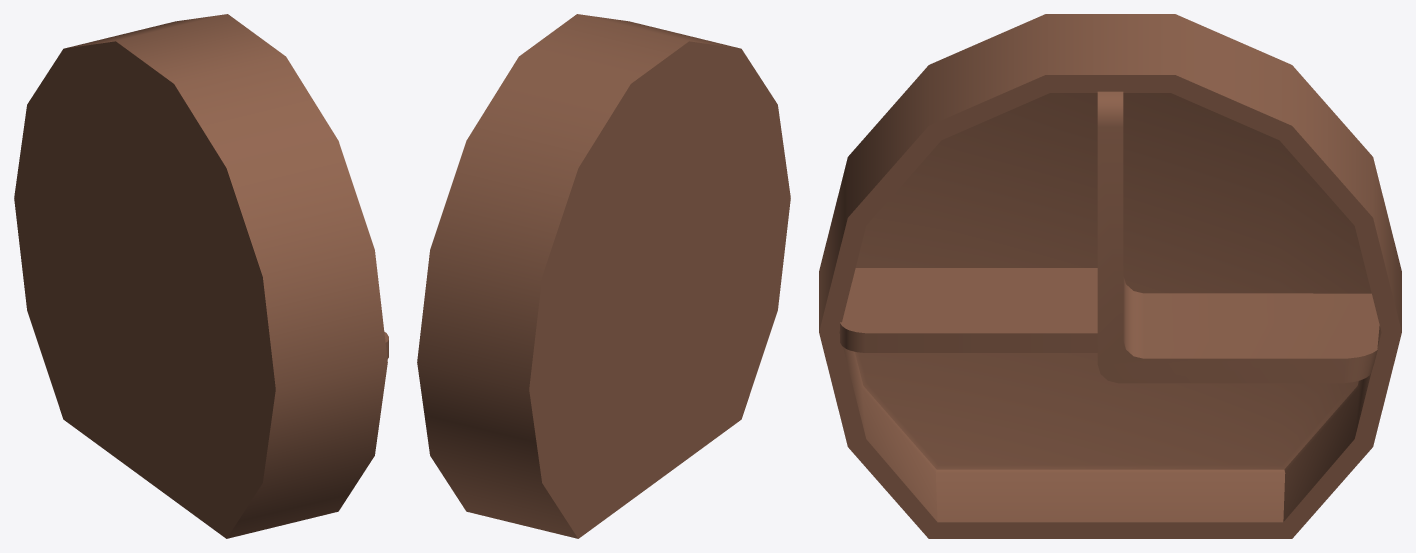
File: complex-shelf-by-j-toastie-4fJCTwYSYw.glb
3 renders of one model, left to right at view 1: azimuth 30°, elevation 25°; view 2: azimuth 150°, elevation 25°; view 3: azimuth 270°, elevation 25°, orthographic. The views are drawn at different scales.
Parts seen in each view (by area): view 1: Cylinder_Cylinder.001; view 2: Cylinder_Cylinder.001; view 3: Cylinder_Cylinder.001.
Part boxes in pixels (x1,y1,x2,y2): Cylinder_Cylinder.001: (14,14,388,538); Cylinder_Cylinder.001: (417,14,790,538); Cylinder_Cylinder.001: (819,14,1401,538).
Size of the model in its own units: 0.2908 by 0.8784 by 1.
